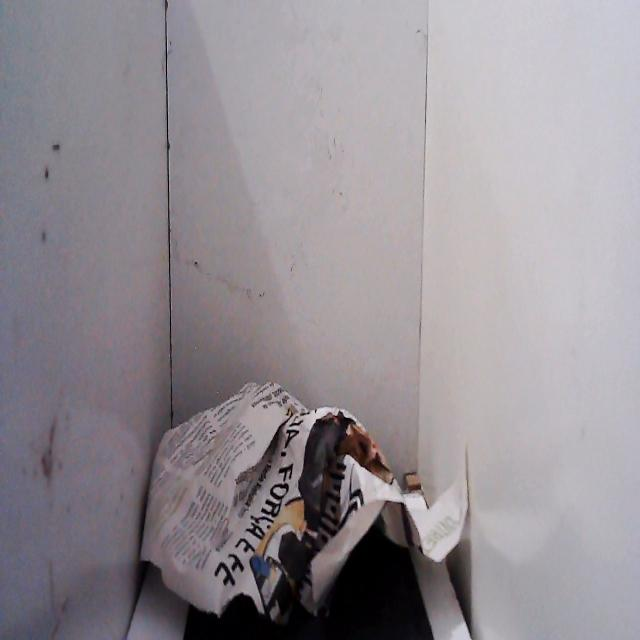papel: (134, 371, 472, 633)
